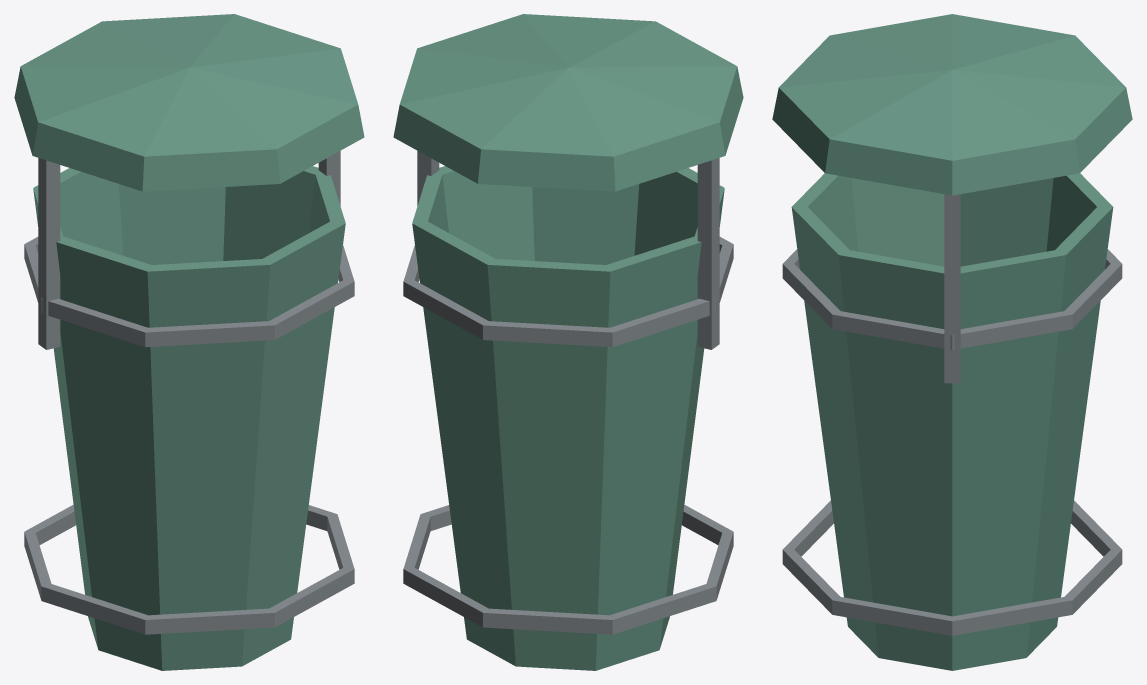
The model's file is TrashBinRound.glb.
3 views of the same model, side by side, from view 1: azimuth 30°, elevation 25°; view 2: azimuth 150°, elevation 25°; view 3: azimuth 270°, elevation 25° (orthographic).
Parts seen in each view (by area): view 1: ST_TrashBinRound_ST_green.001, ST_TrashBinRound_PBK_Indochine_metal.001; view 2: ST_TrashBinRound_ST_green.001, ST_TrashBinRound_PBK_Indochine_metal.001; view 3: ST_TrashBinRound_ST_green.001, ST_TrashBinRound_PBK_Indochine_metal.001.
Part boxes in pixels (x1,y1,x2,y2): ST_TrashBinRound_ST_green.001: (14, 14, 364, 670); ST_TrashBinRound_PBK_Indochine_metal.001: (24, 151, 354, 634); ST_TrashBinRound_ST_green.001: (393, 14, 743, 670); ST_TrashBinRound_PBK_Indochine_metal.001: (403, 151, 733, 634); ST_TrashBinRound_ST_green.001: (772, 14, 1132, 670); ST_TrashBinRound_PBK_Indochine_metal.001: (782, 194, 1122, 635).
Size of the model in its own units: 0.56 by 0.955 by 0.56.
